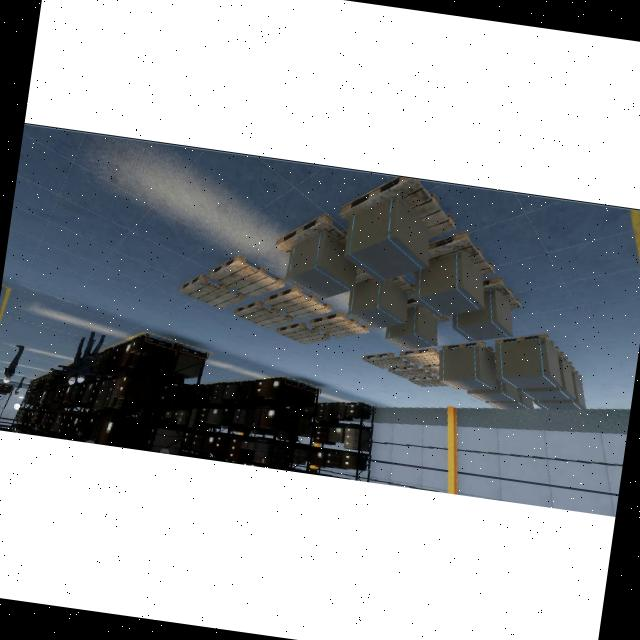wooden_pallet: (339, 176, 456, 239), (208, 256, 286, 299), (429, 230, 497, 278), (276, 215, 348, 257), (177, 275, 246, 310), (263, 286, 332, 320), (234, 301, 293, 329), (309, 314, 371, 340), (482, 276, 522, 310), (495, 335, 560, 355), (276, 322, 332, 345), (441, 341, 494, 356), (363, 353, 411, 369), (399, 349, 440, 366), (388, 365, 432, 380), (408, 375, 448, 389), (423, 364, 439, 378)
